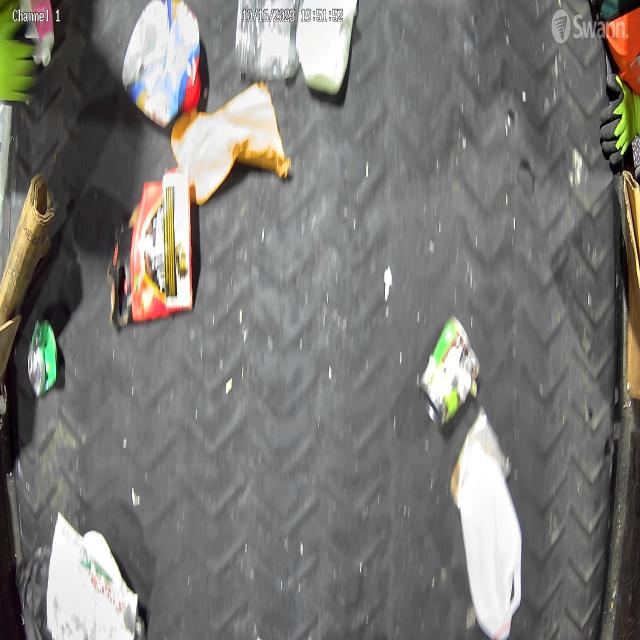can: (422, 314, 483, 426), (23, 319, 64, 404)
milk_jug: (457, 440, 530, 640), (298, 2, 362, 99)
non_white_jug: (118, 0, 206, 125)
